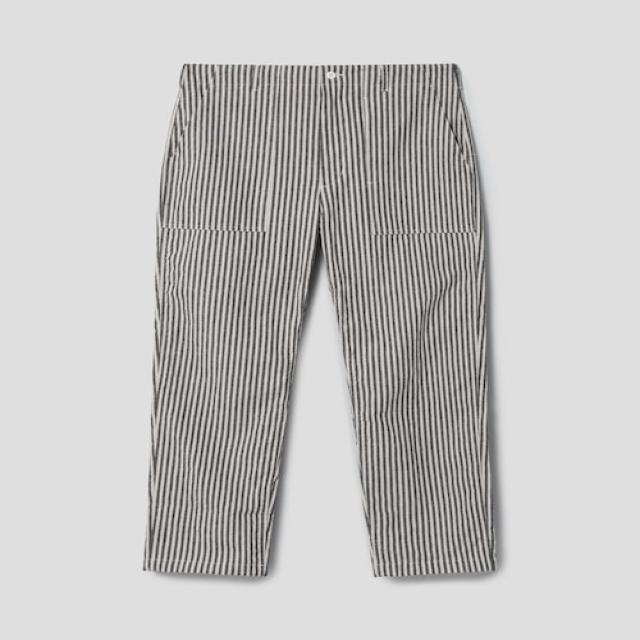long-pants: (142, 64, 506, 585)
